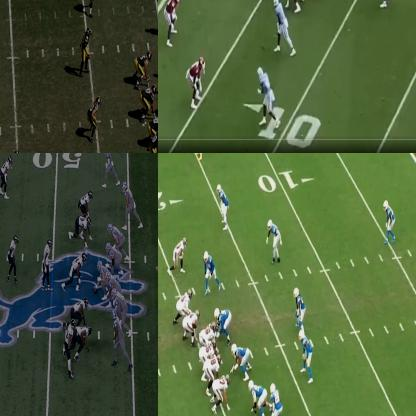CENTER: (92, 258, 110, 294), (198, 319, 219, 341)
DB: (188, 57, 204, 106), (165, 0, 180, 44), (62, 320, 76, 364), (217, 183, 229, 233), (383, 200, 395, 246), (0, 157, 12, 199)
LB: (295, 329, 318, 383), (64, 253, 88, 289), (266, 218, 283, 266), (292, 284, 306, 322), (81, 28, 92, 76), (8, 237, 18, 283), (77, 191, 94, 217), (44, 240, 54, 282), (92, 96, 102, 134), (85, 0, 98, 16), (149, 129, 157, 152)
SKILL: (259, 67, 275, 126), (211, 371, 231, 416), (274, 0, 290, 50), (124, 180, 140, 228), (168, 235, 187, 273), (102, 153, 119, 189), (268, 384, 285, 415), (289, 0, 303, 9)
